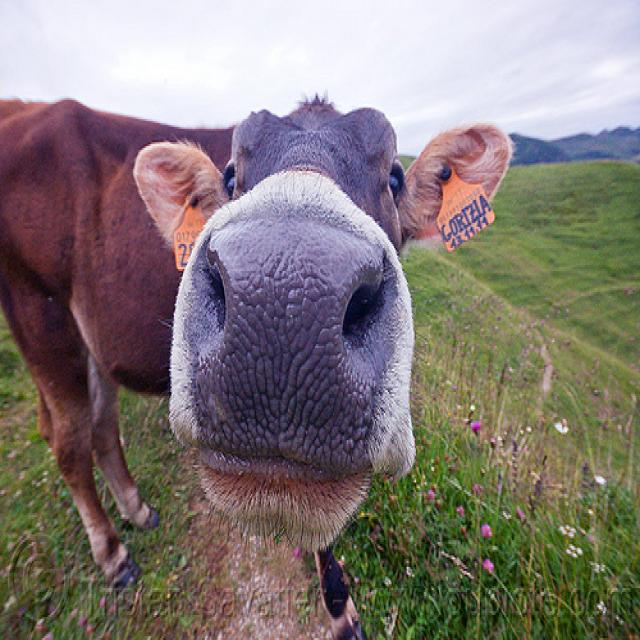cowFace: (128, 100, 516, 565)
